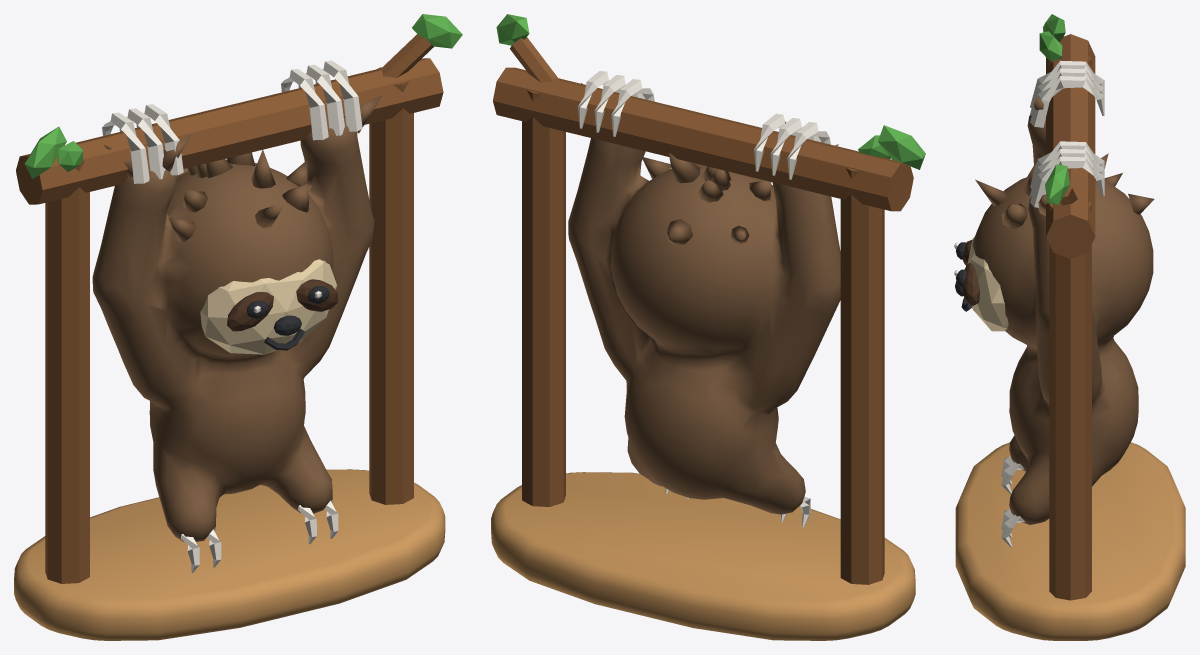
Rendered from hanging-sloth-pet.glb.
3 renders of one model, left to right at view 1: azimuth 30°, elevation 25°; view 2: azimuth 150°, elevation 25°; view 3: azimuth 270°, elevation 25°, orthographic. The views are drawn at different scales.
Parts seen in each view (by area): view 1: Sloth_Body, Stand_Base, Stand_Post_L, Stand_Post_R, Branch, Face_Mask, Sloth_Body_Spikes, Claw_R0, Claw_L0, Leaf_1, Leaf_2, Claw_R2 (+6 smaller); view 2: Sloth_Body, Stand_Base, Branch, Stand_Post_L, Stand_Post_R, Sloth_Body_Spikes, Leaf_2, Branch_Twig, Leaf_1, Claw_R0, Claw_L0, Claw_L1 (+3 smaller); view 3: Stand_Base, Sloth_Body, Stand_Post_R, Branch, Sloth_Body_Spikes, Face_Mask, Claw_L2, Claw_R2, Leaf_1, Claw_R0, Claw_R1, Claw_L1 (+4 smaller).
Part boxes in pixels (bbox=[...]): Sloth_Body: bbox=[92, 117, 374, 542]; Stand_Base: bbox=[14, 469, 445, 640]; Stand_Post_L: bbox=[45, 160, 89, 583]; Stand_Post_R: bbox=[369, 67, 413, 504]; Branch: bbox=[16, 58, 443, 204]; Face_Mask: bbox=[200, 259, 336, 354]; Sloth_Body_Spikes: bbox=[104, 95, 382, 241]; Claw_R0: bbox=[281, 69, 328, 140]; Claw_L0: bbox=[102, 112, 149, 183]; Leaf_1: bbox=[412, 14, 462, 48]; Leaf_2: bbox=[24, 126, 66, 178]; Claw_R2: bbox=[315, 60, 362, 131]; Sloth_Body: bbox=[568, 138, 840, 514]; Stand_Base: bbox=[491, 472, 915, 640]; Branch: bbox=[493, 67, 913, 211]; Stand_Post_L: bbox=[840, 167, 884, 584]; Stand_Post_R: bbox=[522, 90, 565, 506]; Sloth_Body_Spikes: bbox=[581, 83, 838, 245]; Leaf_2: bbox=[878, 125, 925, 169]; Branch_Twig: bbox=[510, 37, 558, 82]; Leaf_1: bbox=[496, 14, 529, 45]; Claw_R0: bbox=[611, 79, 654, 136]; Claw_L0: bbox=[787, 122, 830, 179]; Claw_L1: bbox=[770, 118, 813, 175]; Stand_Base: bbox=[955, 442, 1185, 640]; Sloth_Body: bbox=[972, 115, 1153, 524]; Stand_Post_R: bbox=[1049, 201, 1091, 600]; Branch: bbox=[1046, 34, 1095, 258]; Sloth_Body_Spikes: bbox=[975, 97, 1154, 229]; Face_Mask: bbox=[967, 236, 1008, 331]; Claw_L2: bbox=[1030, 76, 1104, 127]; Claw_R2: bbox=[1030, 156, 1104, 207]; Leaf_1: bbox=[1045, 164, 1069, 204]; Claw_R0: bbox=[1030, 141, 1104, 188]; Claw_R1: bbox=[1030, 149, 1104, 196]; Claw_L1: bbox=[1030, 68, 1104, 115].
Bounding box in the file's own units: 2.82 × 3.2 × 1.41.
